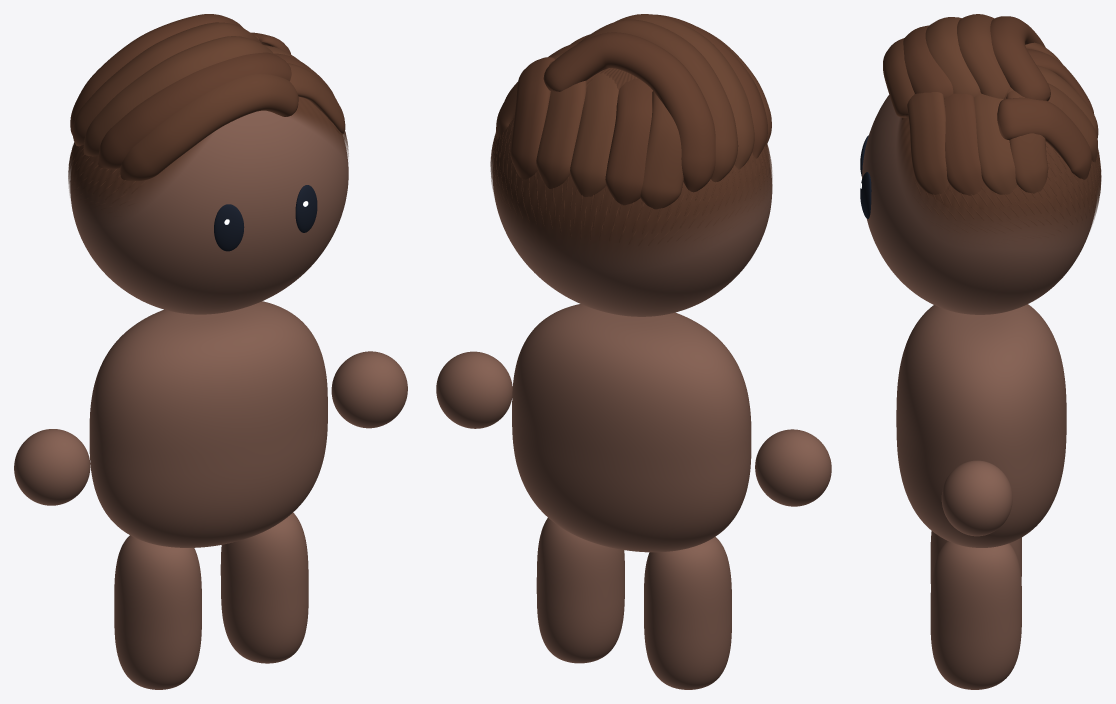
File: Taper-skin3.glb
3 renders of one model, left to right at view 1: azimuth 30°, elevation 25°; view 2: azimuth 150°, elevation 25°; view 3: azimuth 270°, elevation 25°, orthographic. The views are drawn at different scales.
Visible parts, largest first — view 1: Skin / compact torso, Skin / soft oval head, Skin / leg -1, Skin / leg 1, Hair / Taper top 0, Hair / Taper top 1, Hair / Taper short sides, Hair / Taper top 2, Skin / hand 1, Skin / hand -1, Hair / Taper top 3, Hair / Taper top 4 (+4 smaller); view 2: Skin / compact torso, Skin / soft oval head, Hair / Taper short sides, Skin / leg -1, Skin / leg 1, Hair / Taper top 4, Skin / hand 1, Skin / hand -1, Hair / Taper top 3, Hair / Taper crown 1, Hair / Taper crown 2, Hair / Taper crown 3 (+6 smaller); view 3: Skin / compact torso, Skin / soft oval head, Skin / leg 1, Hair / Taper short sides, Skin / hand 1, Hair / Taper crown 4, Hair / Taper short sweep 0, Hair / Taper short sweep 1, Hair / Taper top 4, Hair / Taper short sweep 2, Hair / Taper top 3, Hair / Taper top 2 (+9 smaller).
Boxes of the visible parts, x1,y1,x2,y2 form: Skin / compact torso: [89, 301, 327, 547]; Skin / soft oval head: [70, 110, 348, 314]; Skin / leg -1: [114, 535, 201, 689]; Skin / leg 1: [220, 512, 308, 663]; Hair / Taper top 0: [120, 74, 298, 181]; Hair / Taper top 1: [98, 52, 291, 169]; Hair / Taper short sides: [68, 96, 348, 218]; Hair / Taper top 2: [83, 36, 274, 156]; Skin / hand 1: [331, 351, 407, 428]; Skin / hand -1: [14, 429, 90, 505]; Hair / Taper top 3: [72, 22, 261, 146]; Hair / Taper top 4: [70, 14, 242, 135]; Skin / compact torso: [512, 304, 751, 552]; Skin / soft oval head: [493, 165, 772, 316]; Hair / Taper short sides: [491, 68, 772, 263]; Skin / leg -1: [644, 536, 731, 689]; Skin / leg 1: [536, 518, 624, 663]; Hair / Taper top 4: [543, 32, 715, 192]; Skin / hand 1: [436, 351, 512, 428]; Skin / hand -1: [755, 429, 831, 506]; Hair / Taper top 3: [578, 19, 738, 182]; Hair / Taper crown 1: [605, 78, 652, 205]; Hair / Taper crown 2: [570, 72, 618, 196]; Hair / Taper crown 3: [536, 80, 586, 188]; Skin / compact torso: [896, 304, 1066, 547]; Skin / soft oval head: [862, 95, 1095, 314]; Skin / leg 1: [930, 541, 1021, 689]; Hair / Taper short sides: [897, 117, 1101, 241]; Skin / hand 1: [941, 460, 1012, 536]; Hair / Taper crown 4: [997, 97, 1091, 179]; Hair / Taper short sweep 0: [907, 92, 949, 194]; Hair / Taper short sweep 1: [944, 93, 983, 195]; Hair / Taper top 4: [990, 16, 1050, 100]; Hair / Taper short sweep 2: [974, 93, 1016, 194]; Hair / Taper top 3: [957, 14, 1010, 99]; Hair / Taper top 2: [925, 17, 980, 97].
Bounding box in the file's own units: 1.49 × 2.38 × 0.8289.
